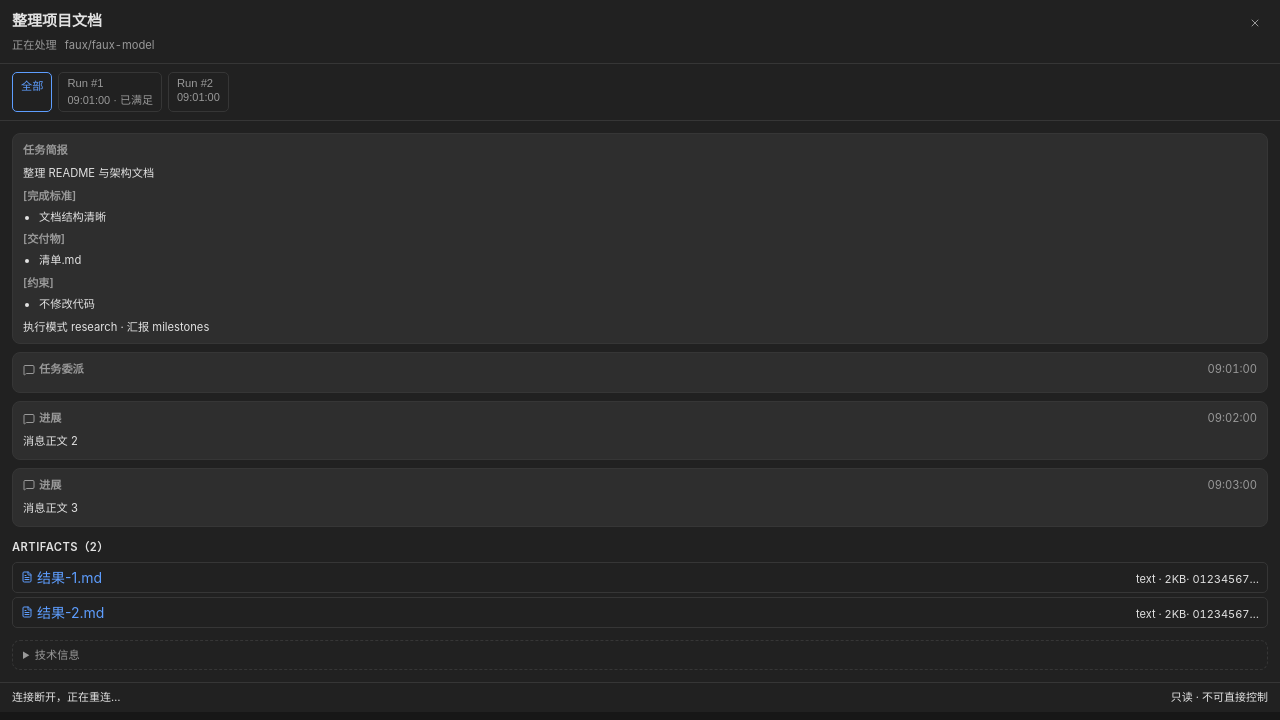
Test: SubagentPanel › Run strip 切换只显示该 Run 的消息
Expected: the element with test id "subagent-task-brief" is shown, [12, 133, 1268, 344]
Click the tab with test id "run-tab-2". click: (198, 92)
box: [168, 72, 229, 112]
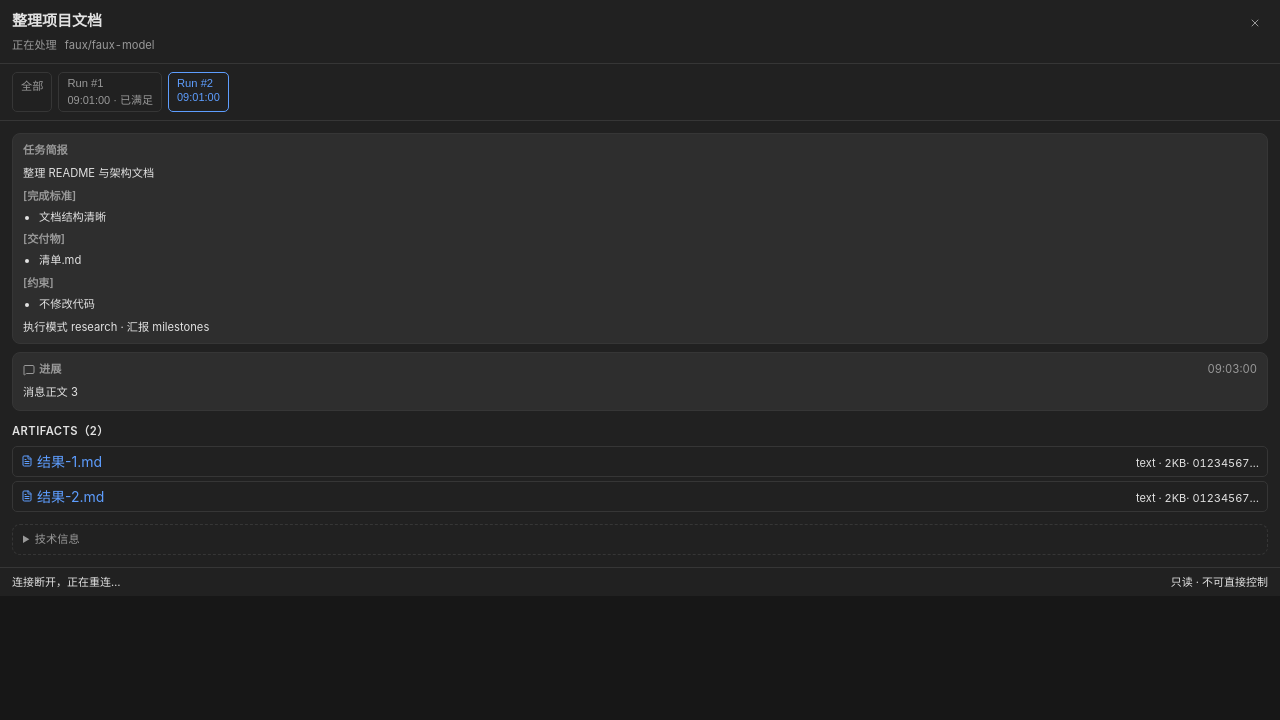
Expected: the element with test id "message-3" is shown, [12, 352, 1268, 411]
Expected: the element with test id "message-1" is gone
Expected: the element with test id "message-2" is gone
Click the tab "全部". click: (32, 92)
box: [12, 72, 52, 112]
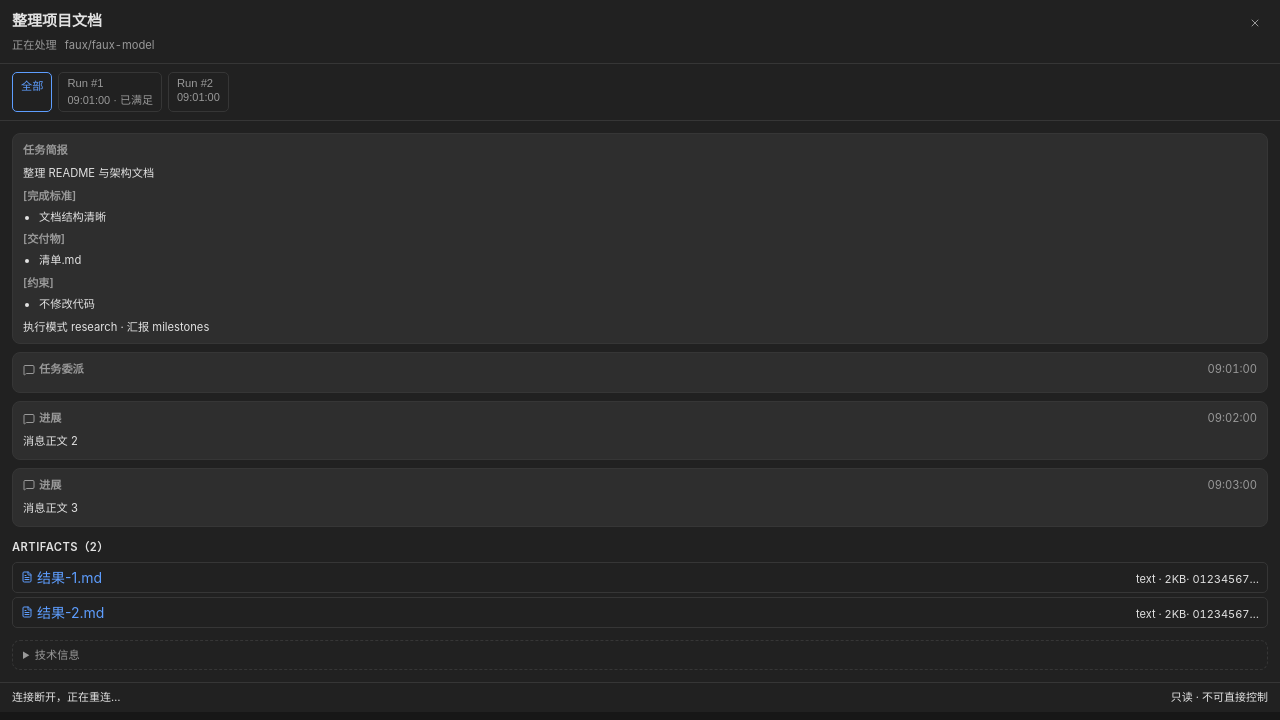
Expected: the element with test id "message-1" is shown, [12, 352, 1268, 393]
Expected: the element with test id "message-2" is shown, [12, 401, 1268, 460]
